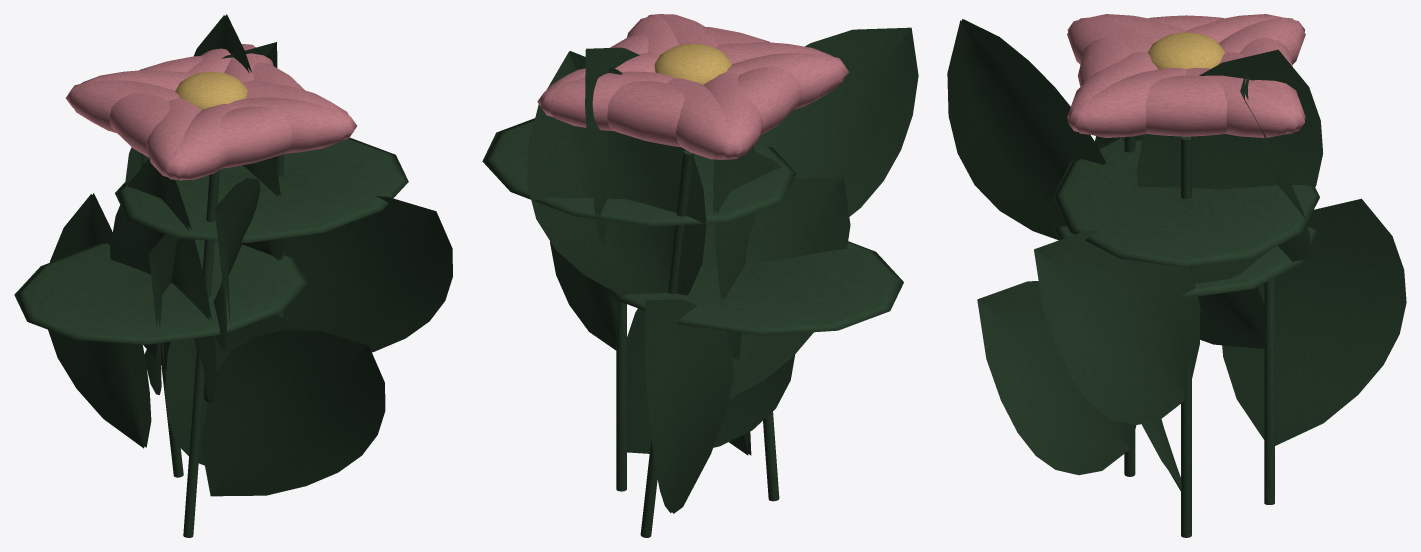
Rendered from water_lily.glb.
3 views of the same model, side by side, from view 1: azimuth 30°, elevation 25°; view 2: azimuth 150°, elevation 25°; view 3: azimuth 270°, elevation 25° (orthographic). The views are drawn at different scales.
Parts seen in each view (by area): view 1: static_ornament, moving_stem_1, moving_stem_0, moving_stem_2; view 2: static_ornament, moving_stem_2, moving_stem_1, moving_stem_0; view 3: static_ornament, moving_stem_0, moving_stem_1, moving_stem_2.
Boxes of the visible parts, x1=… form: static_ornament: x1=14, y1=44, x2=408, y2=344; moving_stem_1: x1=110, y1=158, x2=385, y2=537; moving_stem_0: x1=165, y1=14, x2=452, y2=465; moving_stem_2: x1=48, y1=42, x2=277, y2=477; static_ornament: x1=482, y1=14, x2=903, y2=335; moving_stem_2: x1=527, y1=51, x2=850, y2=537; moving_stem_1: x1=713, y1=27, x2=918, y2=501; moving_stem_0: x1=550, y1=47, x2=795, y2=491; static_ornament: x1=1052, y1=14, x2=1319, y2=298; moving_stem_0: x1=1034, y1=49, x2=1323, y2=537; moving_stem_1: x1=947, y1=19, x2=1200, y2=476; moving_stem_2: x1=1095, y1=75, x2=1406, y2=504.
Size of the model in its own units: 1.1 by 1.27 by 1.1.
Materials: 1 (1 with a texture image).
